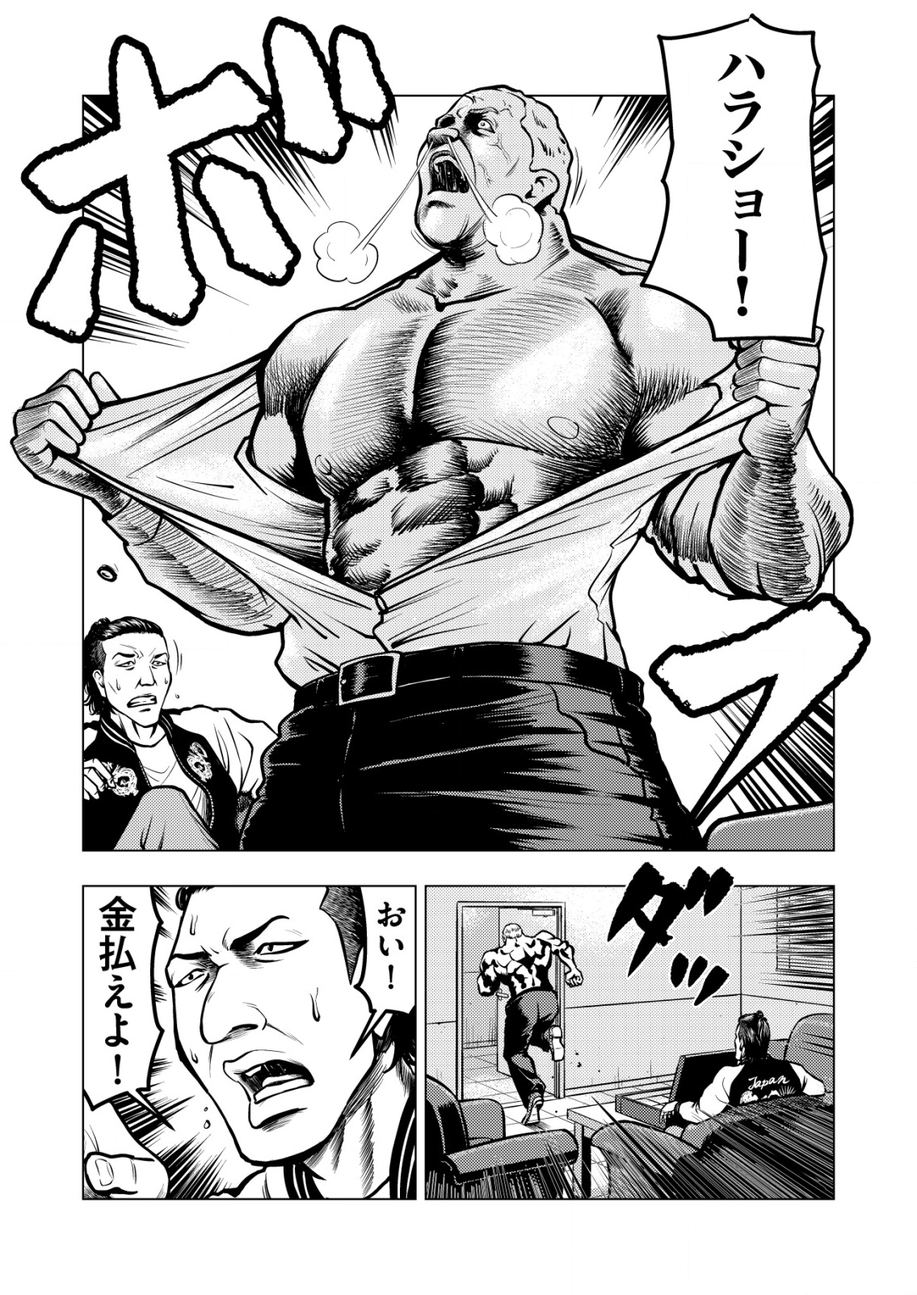bubbles: (638, 10, 833, 351), (78, 881, 180, 1137), (348, 881, 417, 1062)
